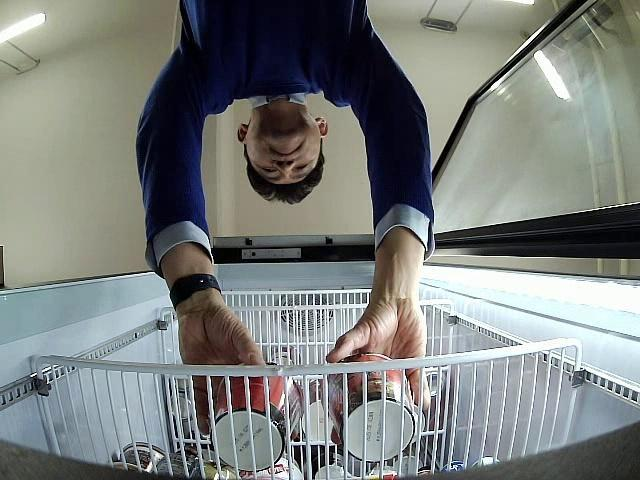02_shinRamen_S: (210, 363, 306, 472), (322, 354, 415, 463)
